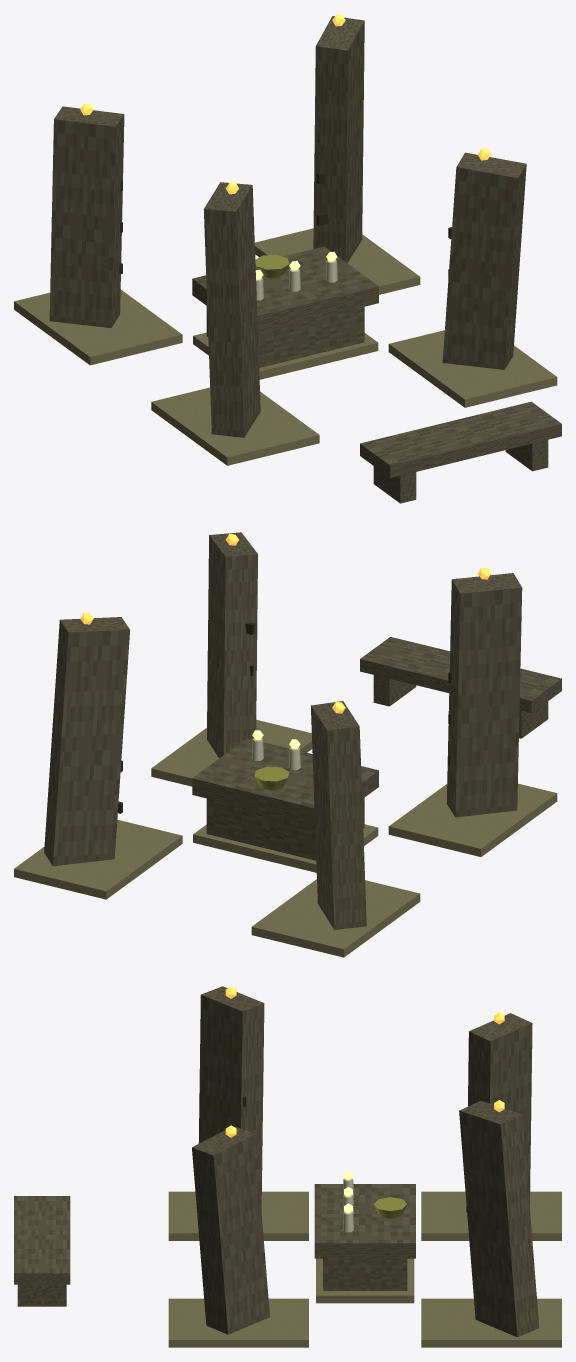
File: village_shrine3.glb
3 renders of one model, top to bottom at view 1: azimuth 30°, elevation 25°; view 2: azimuth 150°, elevation 25°; view 3: azimuth 270°, elevation 25°, orthographic. The views are drawn at different scales.
Parts seen in each view (by area): view 1: sh3_1, sh3_0, sh3_3, sh3_4; view 2: sh3_1, sh3_0, sh3_4; view 3: sh3_1, sh3_0, sh3_4, sh3_3.
Boxes of the visible parts, x1,y1,x2,y2 form: sh3_1: (49, 16, 561, 503); sh3_0: (14, 228, 557, 465); sh3_3: (256, 260, 337, 300); sh3_4: (255, 254, 289, 277); sh3_1: (44, 532, 561, 929); sh3_0: (14, 719, 557, 957); sh3_4: (254, 766, 289, 789); sh3_1: (14, 986, 539, 1337); sh3_0: (168, 1191, 561, 1347); sh3_4: (374, 1197, 407, 1218); sh3_3: (342, 1178, 353, 1232).
Bounding box in the file's own units: 2.5 × 1.81 × 3.9.
Materials: 4 (2 with a texture image).
